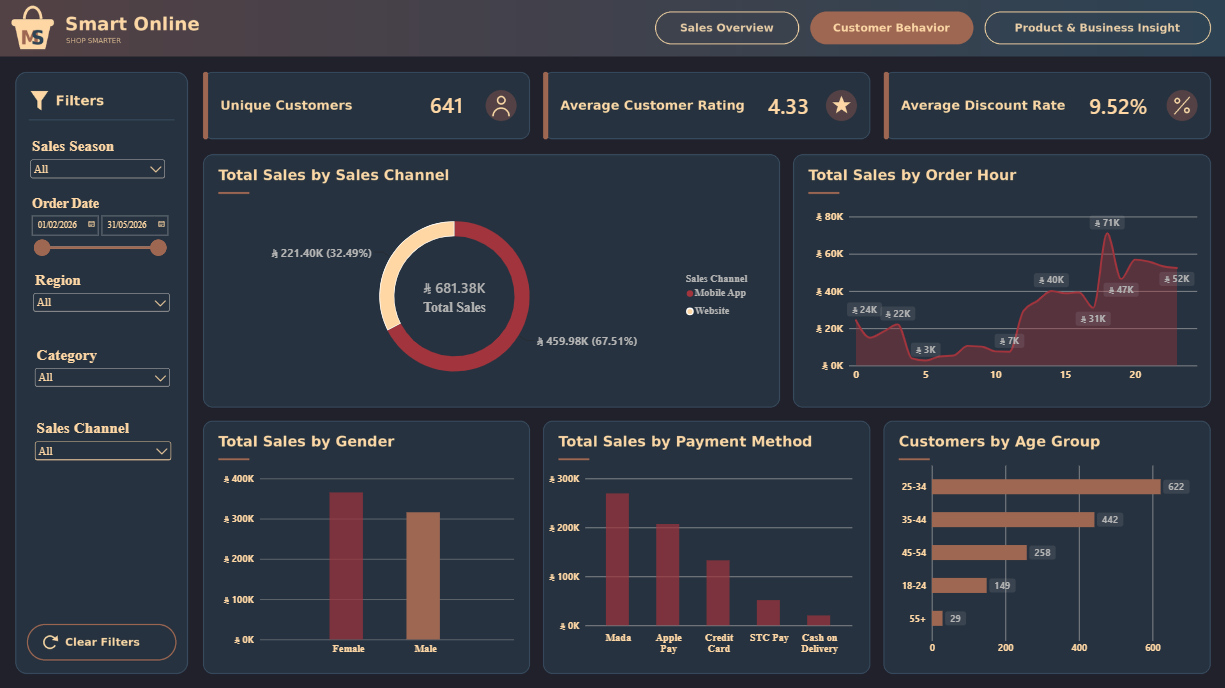

Layout of this report page (visuals, bound fields, positions):
{"tool":"powerbi","page":{"name":"Customer Behavior","canvas":[1920,1080],"ordinal":1},"visuals":[{"type":"cardVisual","title":"Unique Customers","fields":{"Data":["Sales_Data.Unique Customers"]},"box":[558.4,102,280.6,127.6],"z":0},{"type":"cardVisual","title":"Average Customer Rating","fields":{"Data":["Sales_Data.Average Rating"]},"box":[1094.2,107.7,280.6,116.2],"z":1000},{"type":"cardVisual","title":"Average Discount Rate","fields":{"Data":["Sales_Data.Average Discount"]},"box":[1610.1,121.9,280.6,87.9],"z":2000},{"type":"columnChart","fields":{"Category":["Sales_Data.Gender"],"Y":["Sales_Data.Total Sales"]},"box":[332.5,725,487.5,320],"z":3000},{"type":"barChart","fields":{"Category":["Sales_Data.Age Group"],"Y":["CountNonNull(Sales_Data.Age Group)"]},"box":[1394,708,496,338],"z":4000},{"type":"donutChart","fields":{"Category":["Sales_Data.Sales Channel"],"Y":["Sales_Data.Total Sales"]},"box":[332.5,300,875.9,331.7],"z":5000},{"type":"columnChart","fields":{"Category":["Sales_Data.Payment Method"],"Y":["Sales_Data.Total Sales"]},"box":[842.5,725,507.5,320],"z":6000},{"type":"lineChart","fields":{"Category":["Sales_Data.Order Hour"],"Y":["Sales_Data.Total Sales"]},"box":[1261.4,314.6,629.3,306.1],"z":7000},{"type":"actionButton","box":[60,980,200,50],"z":7001},{"type":"slicer","fields":{"Values":["Sales_Data.Order Date"]},"box":[43.3,307.8,221.7,146.7],"z":7002},{"type":"slicer","fields":{"Values":["Sales_Data.Region"]},"box":[46.7,426.1,223.3,116.7],"z":7003},{"type":"slicer","fields":{"Values":["Sales_Data.Sales Season"]},"box":[42.5,216.2,221.1,82.2],"z":7004},{"type":"slicer","fields":{"Values":["Sales_Data.Category"]},"box":[48.3,542.8,221.4,88.6],"z":7005},{"type":"slicer","fields":{"Values":["Sales_Data.Sales Channel"]},"box":[48.3,657.8,223.3,110],"z":7006},{"type":"actionButton","box":[1563.3,26.7,296.7,40],"z":7007},{"type":"actionButton","box":[1053.3,26.7,180,40],"z":7008}]}

Visuals, with their boxes in screenshot pixels (x1, y1, x2, y2), scaled from the page's 1920x1080 canvas onto the 1225x688 screenshot:
"Unique Customers" cardVisual: 356:65:535:146
"Average Customer Rating" cardVisual: 698:69:877:143
"Average Discount Rate" cardVisual: 1027:78:1206:134
columnChart - Sales_Data.Gender x Sales_Data.Total Sales: 212:462:523:666
barChart - Sales_Data.Age Group x CountNonNull(Sales_Data.Age Group): 889:451:1206:666
donutChart - Sales_Data.Sales Channel x Sales_Data.Total Sales: 212:191:771:402
columnChart - Sales_Data.Payment Method x Sales_Data.Total Sales: 538:462:861:666
lineChart - Sales_Data.Order Hour x Sales_Data.Total Sales: 805:200:1206:395
actionButton: 38:624:166:656
slicer - Sales_Data.Order Date: 28:196:169:290
slicer - Sales_Data.Region: 30:271:172:346
slicer - Sales_Data.Sales Season: 27:138:168:190
slicer - Sales_Data.Category: 31:346:172:402
slicer - Sales_Data.Sales Channel: 31:419:173:489
actionButton: 997:17:1187:42
actionButton: 672:17:787:42
